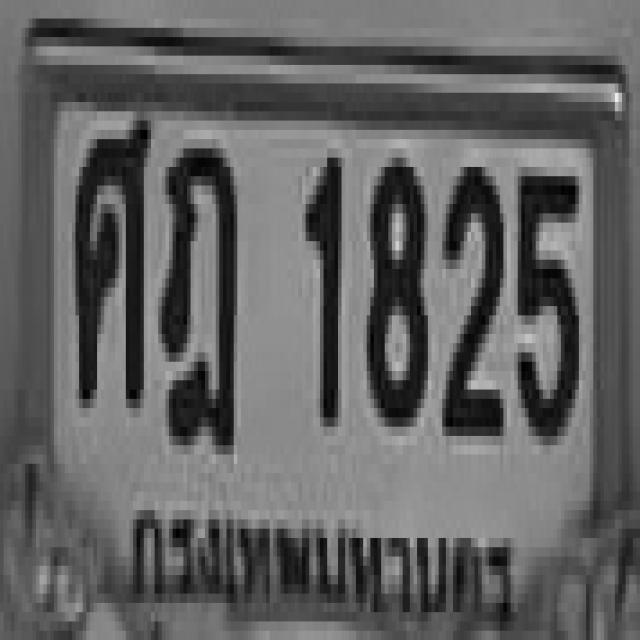1: (302, 148, 338, 418)
2: (438, 158, 499, 426)
23DorChaDa: (158, 139, 234, 445)
47SorSala: (72, 111, 147, 399)
5: (514, 162, 575, 441)
8: (363, 148, 424, 418)
Bangkok: (119, 482, 523, 640)
